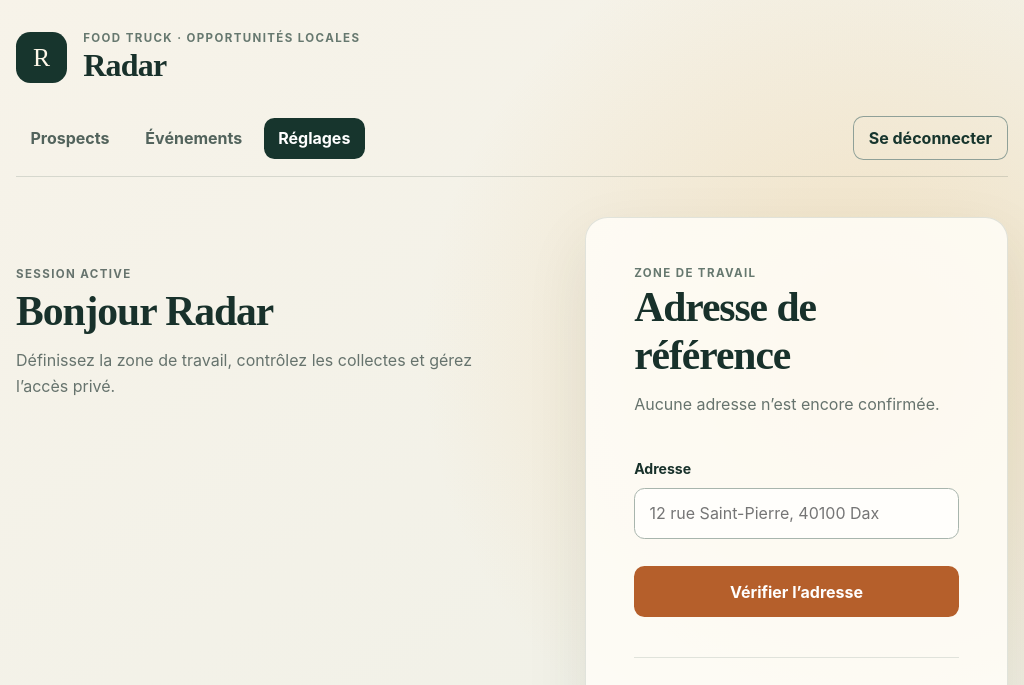
Scenario: authentication interface › geocodes an address and requires confirmation before making it current
The image size is (1024, 685).
Check: the heading "Adresse de référence" is shown, box [634,284,816,378]
Type "12 rue Saint-Pierre 40100 Dax" into the field labelled "Adresse".
click(797, 513); type("12 rue Saint-Pierre 40100 Dax")  # box [634,488,959,539]
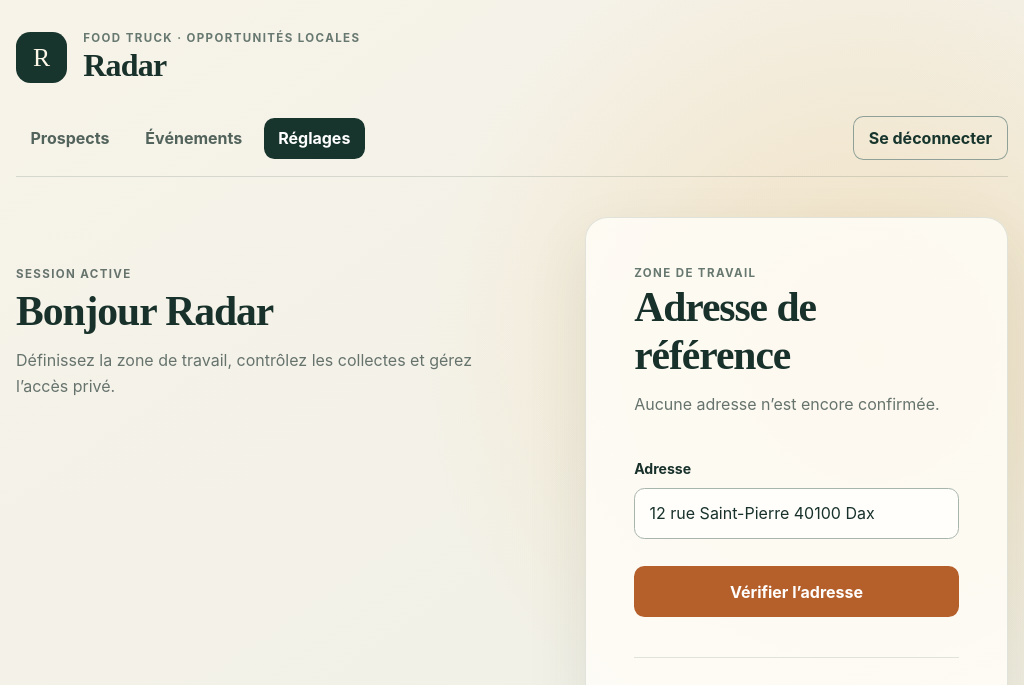
Click the button "Vérifier l’adresse".
click(797, 592)  # box [634,566,959,617]
(page scrolled)
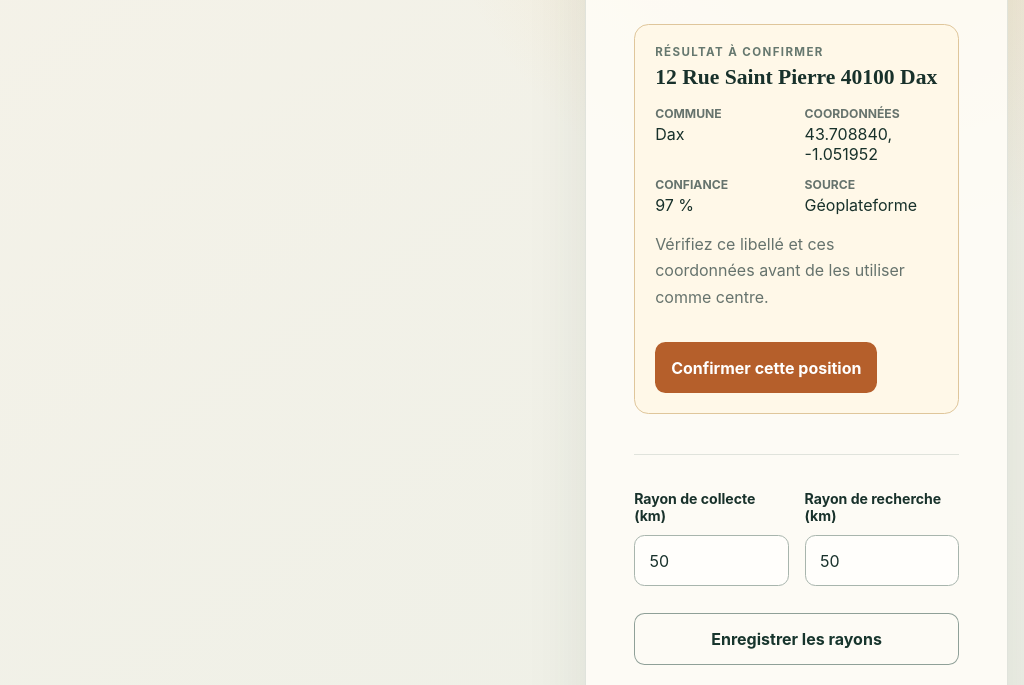
Check: the text "Position actuelle" is not shown
Check: the heading "12 Rue Saint Pierre 40100 Dax" is shown, box [655,65,938,90]
Click the button "Confirmer cette position".
click(766, 368)  # box [655,342,877,394]
(page scrolled)
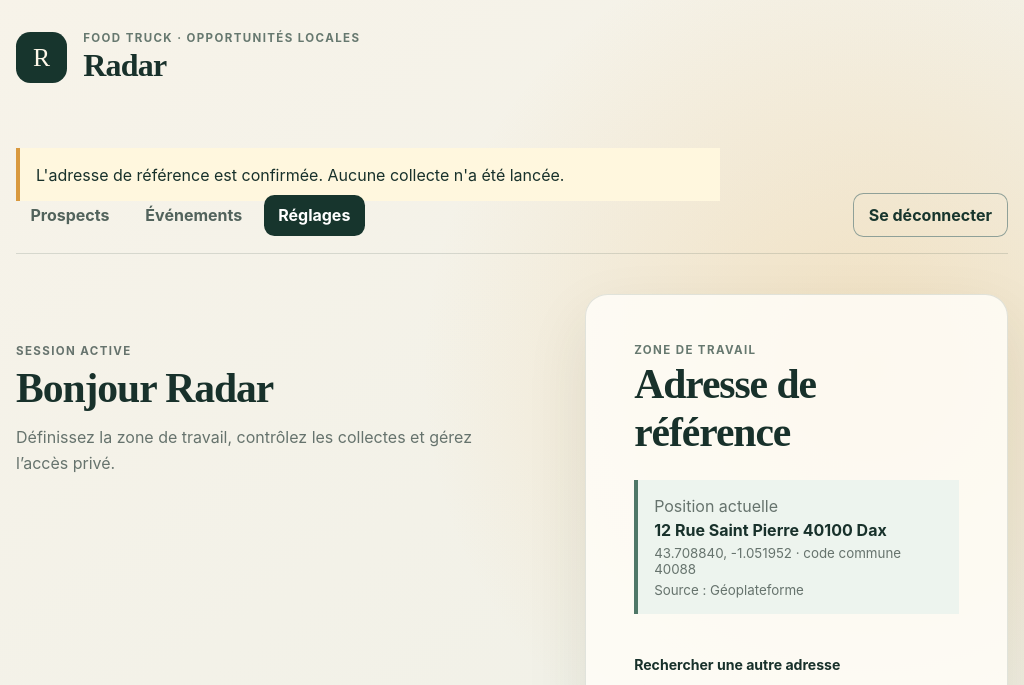
Check: the text "Position actuelle" is shown, box [654,496,778,516]
Check: the text "L'adresse de référence est confirmée. Aucune collecte n'a été lancée." is shown, box [16,148,720,201]
